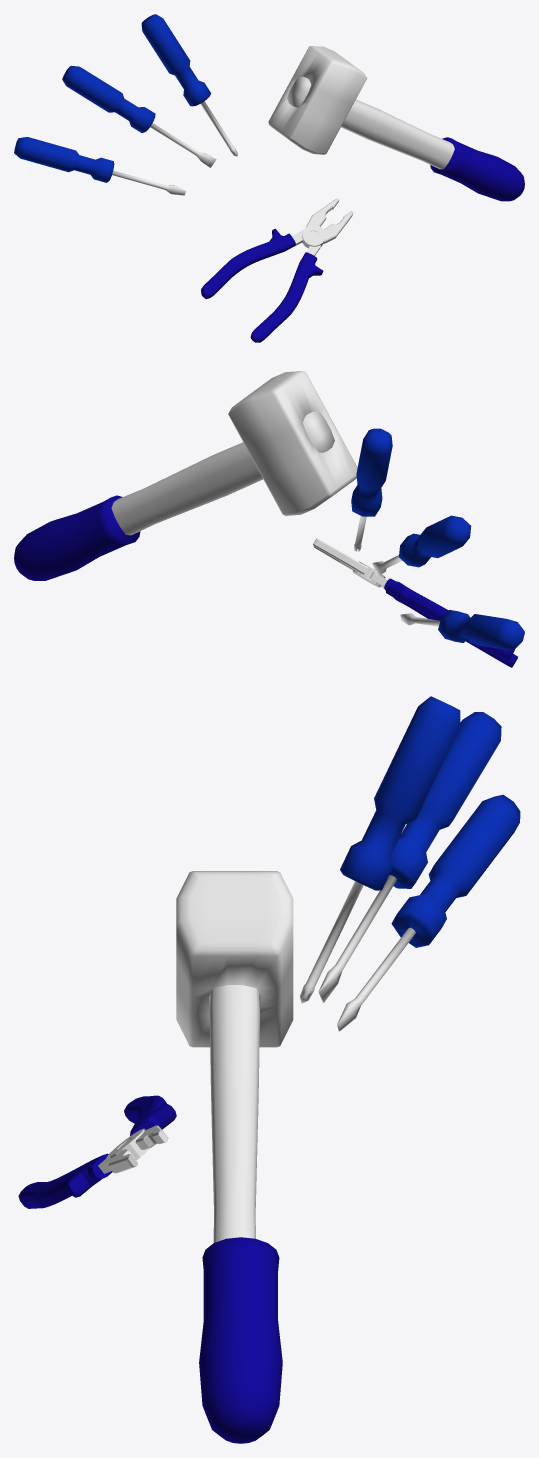
Rendered from tools.fbx.
3 views of the same model, one above another, from view 1: azimuth 30°, elevation 25°; view 2: azimuth 150°, elevation 25°; view 3: azimuth 270°, elevation 25° (orthographic). The views are drawn at different scales.
Visible parts, largest first — view 1: tools.pliers; view 2: tools.pliers; view 3: tools.pliers.
Boxes of the visible parts, box(x1,y1,x2,y2) form: tools.pliers: box(14, 14, 524, 342); tools.pliers: box(14, 371, 524, 667); tools.pliers: box(18, 696, 520, 1443).
Size of the model in its own units: 162 by 88.25 by 79.27.
